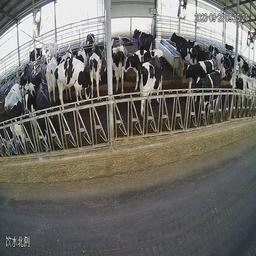cow: (32, 85, 75, 155), (136, 52, 165, 123), (57, 61, 104, 96), (196, 71, 224, 119), (1, 104, 24, 157), (231, 68, 255, 115), (183, 56, 220, 84), (110, 41, 126, 94), (130, 23, 154, 52), (173, 30, 194, 63), (43, 55, 57, 88), (211, 40, 225, 71), (40, 37, 55, 61), (126, 49, 136, 81), (27, 43, 39, 66), (86, 32, 97, 54)
